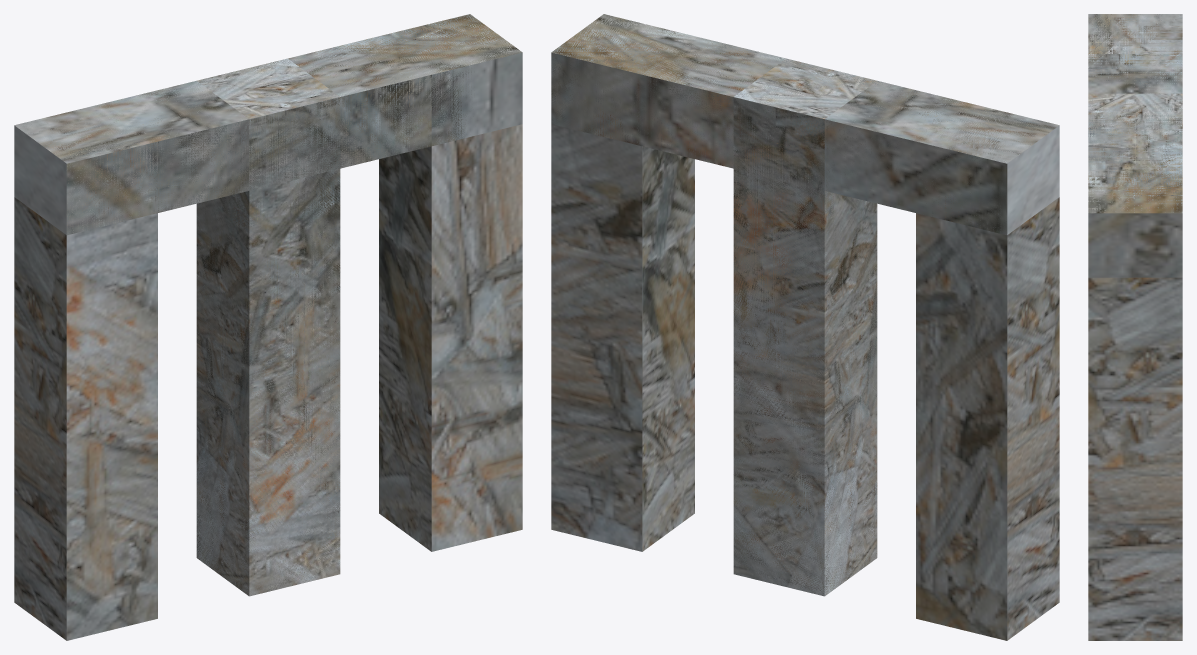
Rendered from TDB_SupportPillars.fbx.
3 views of the same model, side by side, from view 1: azimuth 30°, elevation 25°; view 2: azimuth 150°, elevation 25°; view 3: azimuth 270°, elevation 25° (orthographic). The views are drawn at different scales.
Visible parts, largest first — view 1: Support Arch, Strong Support Pillar, Pillar; view 2: Support Arch, Strong Support Pillar, Pillar; view 3: Support Arch, Strong Support Pillar, Pillar.
Part boxes in pixels (box(x1,y1,x2,y2)): Support Arch: box(14, 14, 522, 640); Strong Support Pillar: box(14, 14, 522, 595); Pillar: box(196, 58, 340, 596); Support Arch: box(551, 14, 1059, 640); Strong Support Pillar: box(551, 14, 1059, 595); Pillar: box(733, 58, 877, 596); Support Arch: box(1088, 14, 1182, 640); Strong Support Pillar: box(1088, 14, 1182, 277); Pillar: box(1088, 93, 1182, 133).
Bounding box in the file's own units: 2 × 0.4 × 2.
